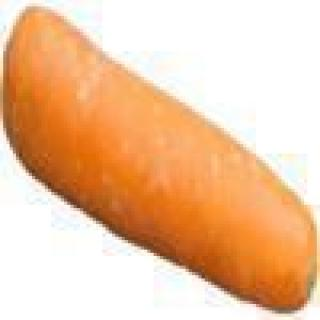Wortel: (1, 1, 318, 308)
